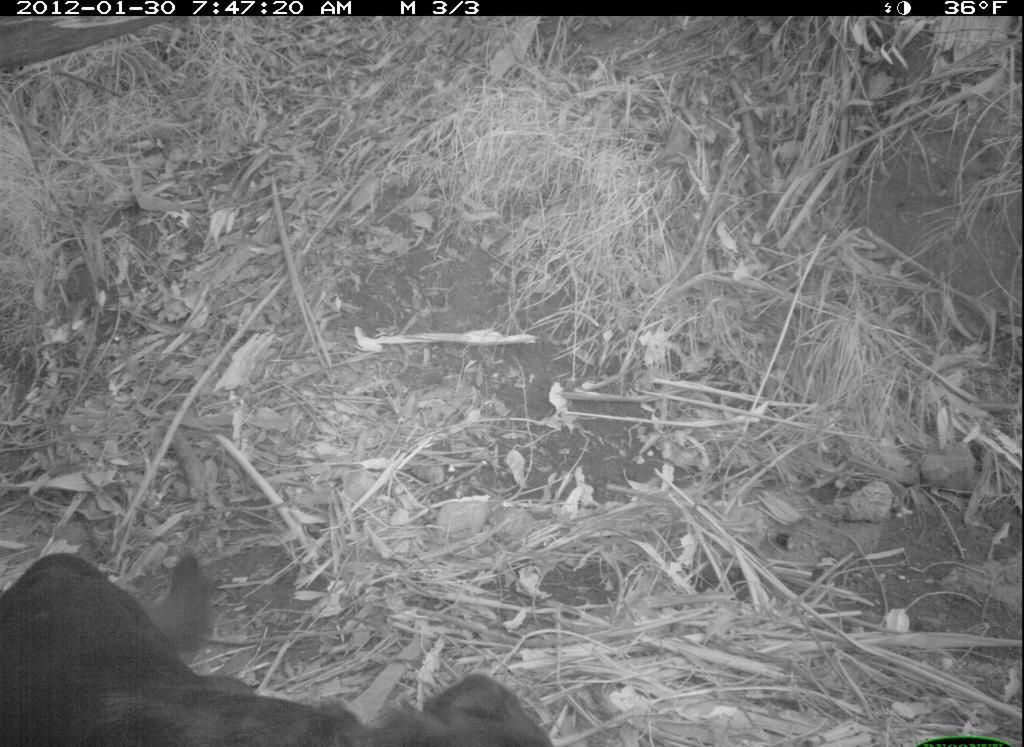dog: (3, 533, 555, 743)
